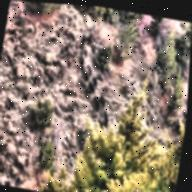boar: (103, 107, 111, 124)
